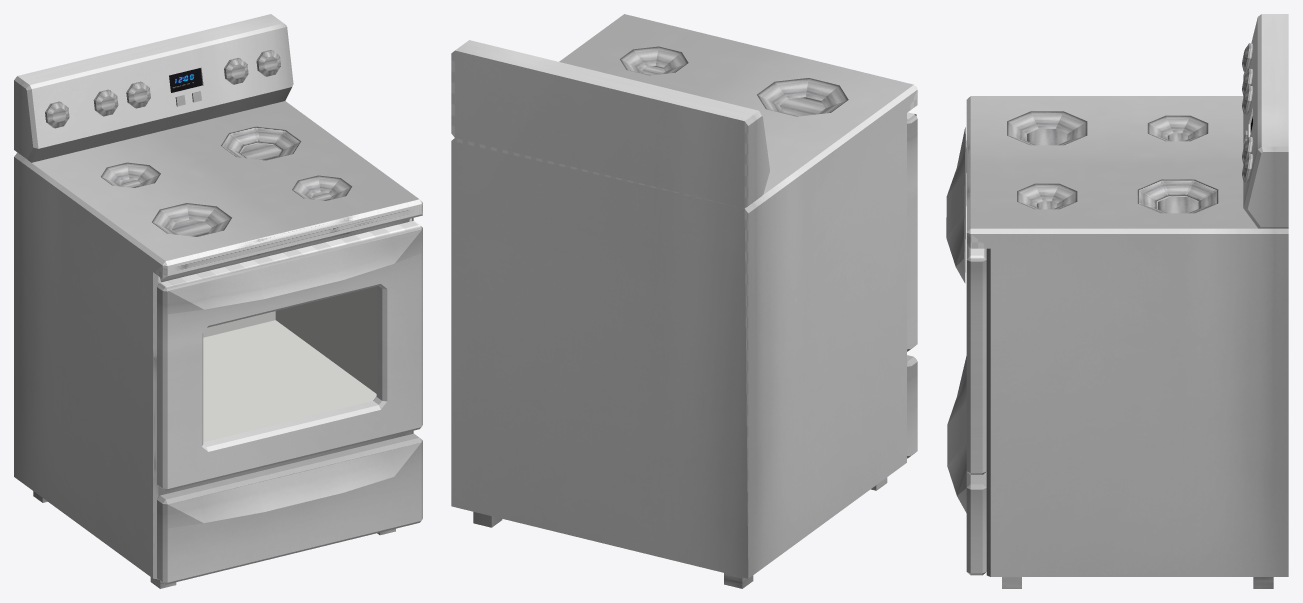
The model's file is fogao.glb.
3 views of the same model, side by side, from view 1: azimuth 30°, elevation 25°; view 2: azimuth 150°, elevation 25°; view 3: azimuth 270°, elevation 25° (orthographic). The views are drawn at different scales.
Parts seen in each view (by area): view 1: object4, object3.001, object1.002; view 2: object4, object3.001, object1.002; view 3: object4, object3.001, object1.002.
Boxes of the visible parts, x1,y1,x2,y2 form: object4: [14, 14, 422, 588]; object3.001: [157, 221, 422, 490]; object1.002: [157, 433, 422, 584]; object4: [451, 14, 917, 588]; object3.001: [907, 112, 917, 351]; object1.002: [907, 355, 917, 458]; object4: [966, 14, 1288, 588]; object3.001: [946, 127, 986, 474]; object1.002: [947, 356, 986, 575].
Bounding box in the file's own units: 0.8 × 1.23 × 0.8505.
Materials: 4 (3 with a texture image).
